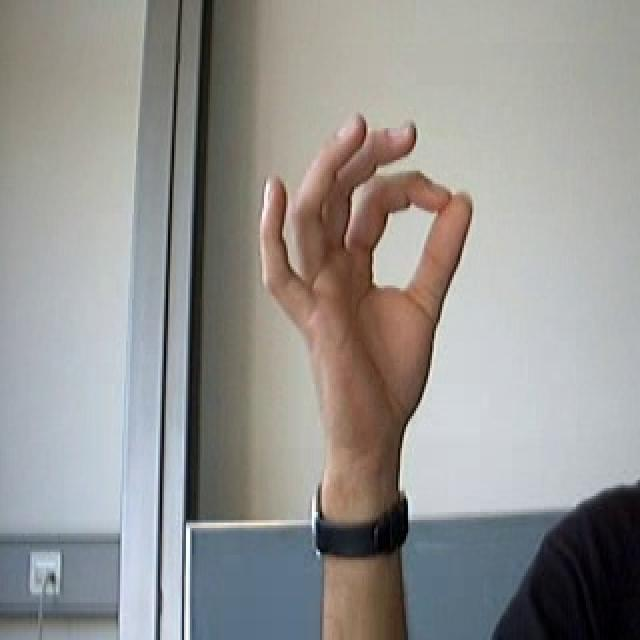F: (215, 94, 507, 481)
